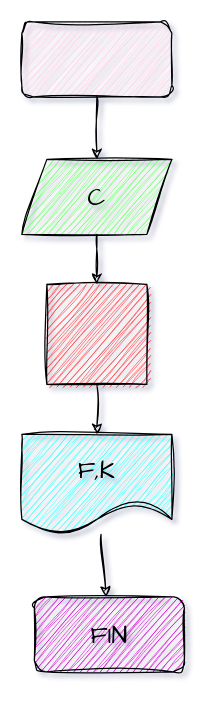
This 214x701 diagram has some shape labels left out. The centre of each missing label's shape, as x and y in pixels:
F: 9/5C+32 K: 273.15+C: the point at 96,333
INICIO: the point at 96,59
